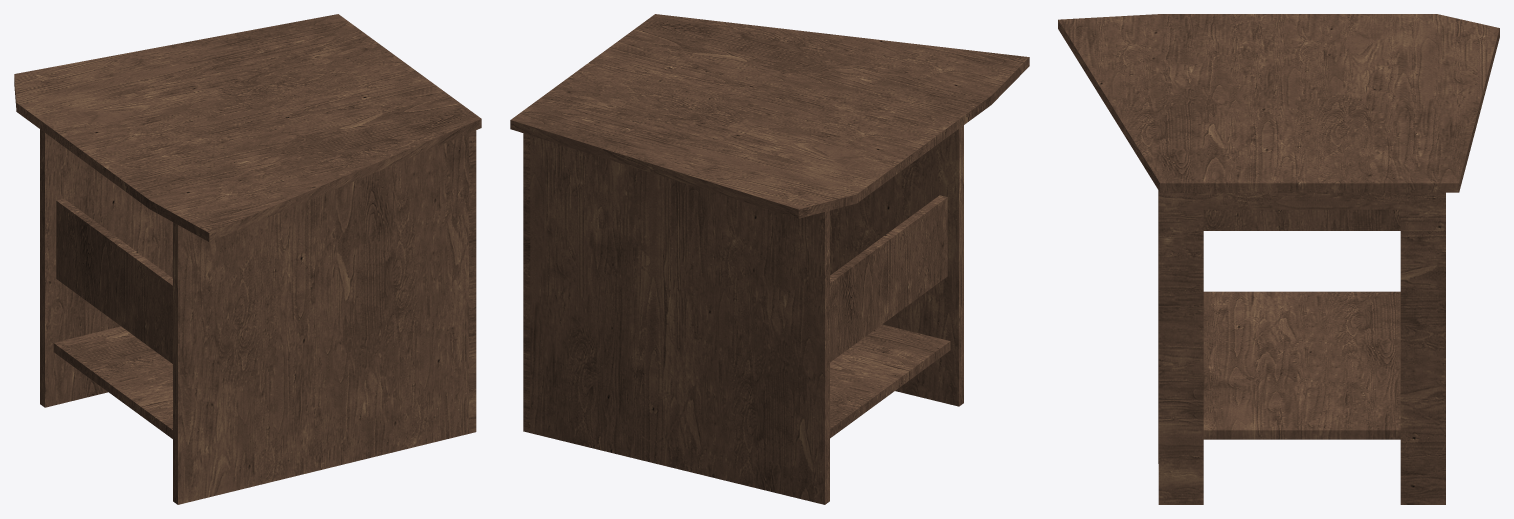
Rendered from M_Home_Garden_Rack_08.fbx.
The picture shows the model from 3 angles, left to right: view 1: azimuth 30°, elevation 25°; view 2: azimuth 150°, elevation 25°; view 3: azimuth 270°, elevation 25°; orthographic projection. The views are drawn at different scales.
Visible parts, largest first — view 1: M_Home_Garden_Rack_08; view 2: M_Home_Garden_Rack_08; view 3: M_Home_Garden_Rack_08.
Boxes of the visible parts, left/top/right/bottom form: M_Home_Garden_Rack_08: left=14, top=14, right=481, bottom=504; M_Home_Garden_Rack_08: left=510, top=14, right=1029, bottom=504; M_Home_Garden_Rack_08: left=1058, top=14, right=1499, bottom=504.
Size of the model in its own units: 111 by 99.61 by 123.
